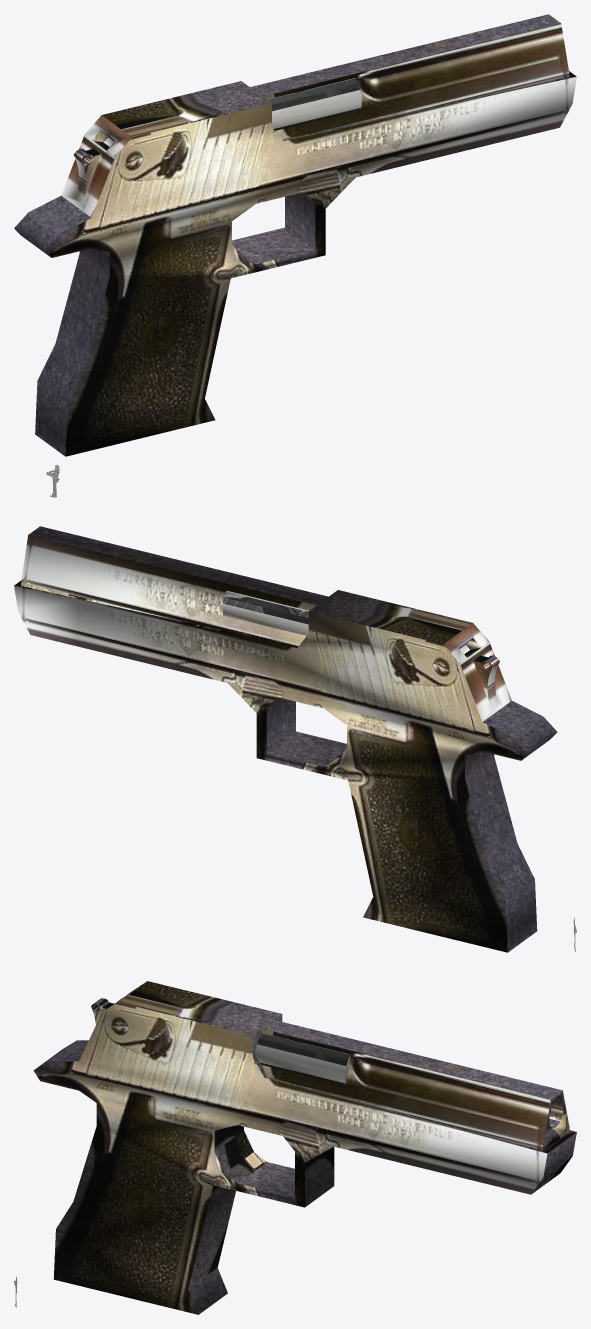
Rendered from desert+oureia.fbx.
The picture shows the model from 3 angles, top to bottom: view 1: azimuth 30°, elevation 25°; view 2: azimuth 150°, elevation 25°; view 3: azimuth 330°, elevation 25°; orthographic projection. The views are drawn at different scales.
Visible parts, largest first — view 1: Model; view 2: Model; view 3: Model.
Boxes of the visible parts, bbox=[...] form: Model: bbox=[14, 14, 576, 456]; Model: bbox=[14, 526, 557, 952]; Model: bbox=[33, 981, 576, 1314].
Size of the model in its own units: 2924 by 1689 by 434.
